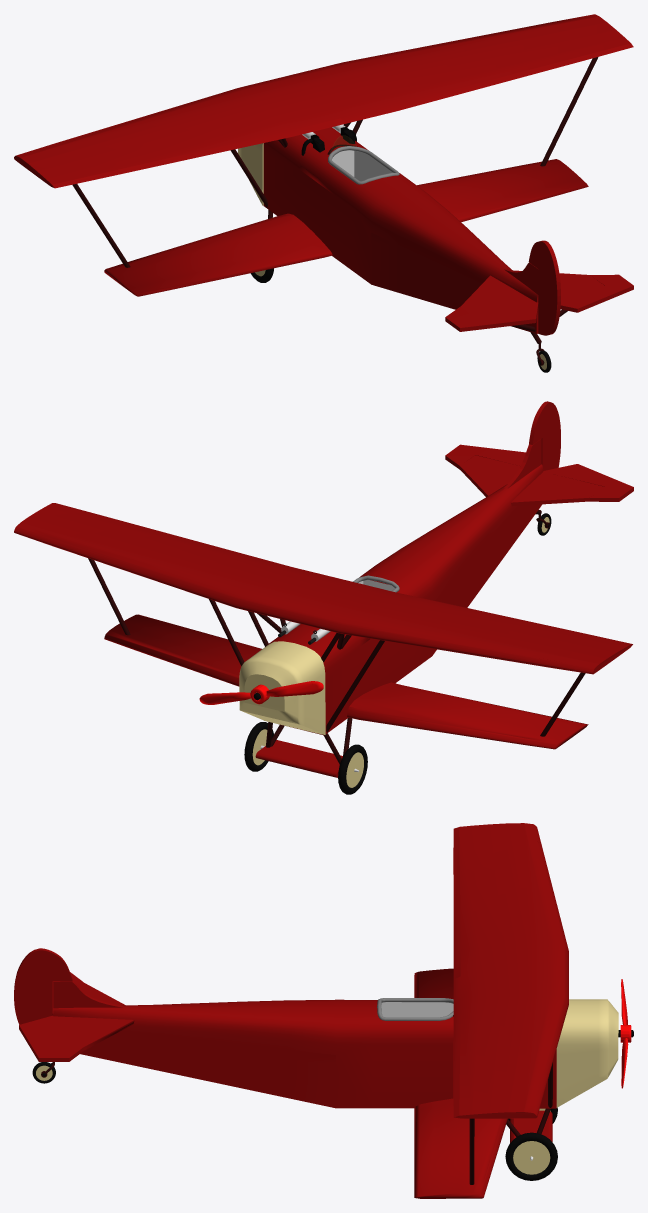
Rendered from Avio_lod1.FBX.
3 views of the same model, one above another, from view 1: azimuth 30°, elevation 25°; view 2: azimuth 150°, elevation 25°; view 3: azimuth 270°, elevation 25° (orthographic). The views are drawn at different scales.
Visible parts, largest first — view 1: Line184, Box001, noooooooze, Line138, Line155, Line163; view 2: Line184, noooooooze, Tube031, Torus008, Torus010, Line160; view 3: Line184, noooooooze, Box001, Torus010, Cylinder077, Line138, Tube031.
Part boxes in pixels (x1=…): Line184: x1=14, y1=14, x2=633, y2=335; Box001: x1=332, y1=150, x2=391, y2=181; noooooooze: x1=238, y1=143, x2=263, y2=205; Line138: x1=328, y1=146, x2=399, y2=184; Line155: x1=540, y1=57, x2=598, y2=166; Line163: x1=72, y1=184, x2=130, y2=267; Line184: x1=14, y1=401, x2=633, y2=777; noooooooze: x1=239, y1=641, x2=325, y2=734; Tube031: x1=199, y1=681, x2=323, y2=704; Torus008: x1=338, y1=744, x2=367, y2=794; Torus010: x1=244, y1=722, x2=273, y2=771; Line160: x1=326, y1=640, x2=384, y2=732; Line184: x1=14, y1=823, x2=568, y2=1198; noooooooze: x1=556, y1=999, x2=618, y2=1107; Box001: x1=381, y1=1002, x2=453, y2=1017; Torus010: x1=505, y1=1132, x2=557, y2=1180; Cylinder077: x1=513, y1=1141, x2=550, y2=1174; Line138: x1=377, y1=998, x2=453, y2=1020; Tube031: x1=620, y1=979, x2=631, y2=1088.
Size of the model in its own units: 2802 by 940 by 2539.
